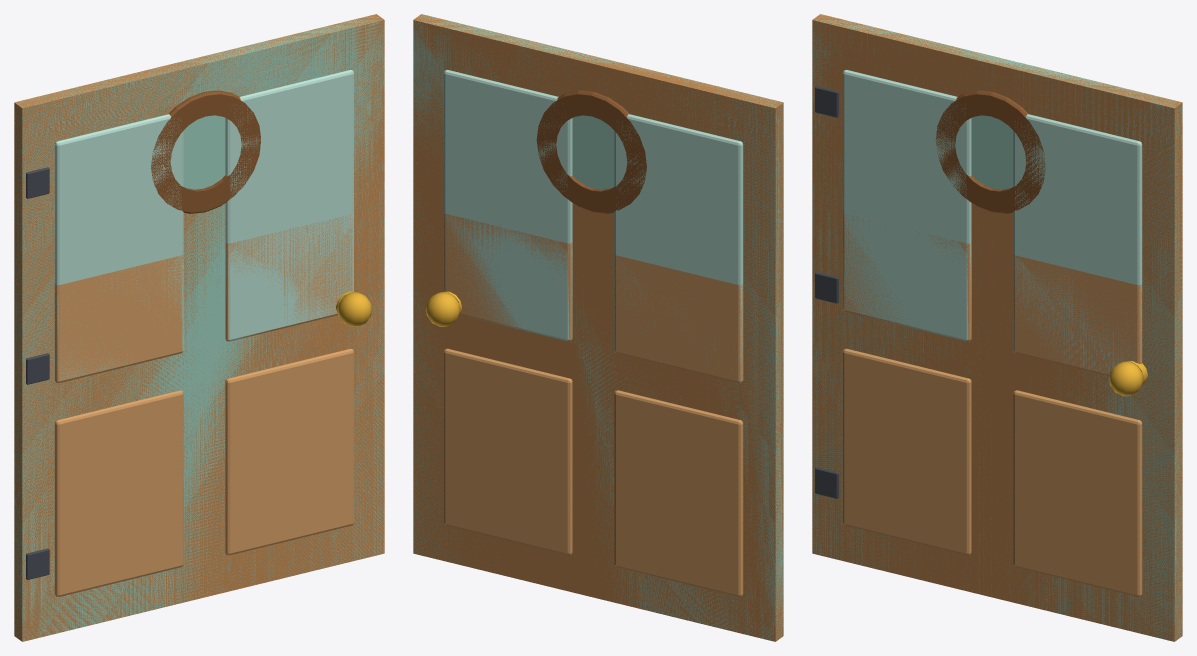
Rendered from casa-portas.glb.
3 views of the same model, side by side, from view 1: azimuth 30°, elevation 25°; view 2: azimuth 150°, elevation 25°; view 3: azimuth 330°, elevation 25° (orthographic).
Parts seen in each view (by area): view 1: porta, porta-interna; view 2: porta, porta-interna; view 3: porta, porta-interna.
Part boxes in pixels (<box>): porta: <box>14,14,384,641</box>; porta-interna: <box>14,15,384,641</box>; porta: <box>413,14,783,641</box>; porta-interna: <box>413,14,783,641</box>; porta: <box>812,14,1182,641</box>; porta-interna: <box>812,14,1182,641</box>.
Size of the model in its own units: 2.04 by 2.87 by 0.43.
